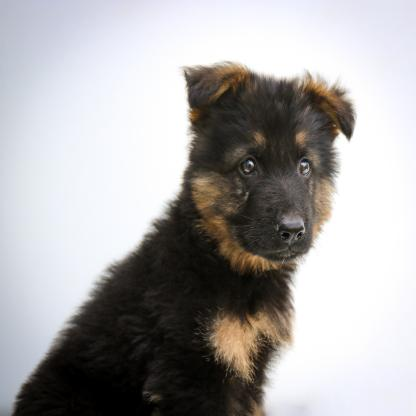dog: (14, 68, 356, 416)
